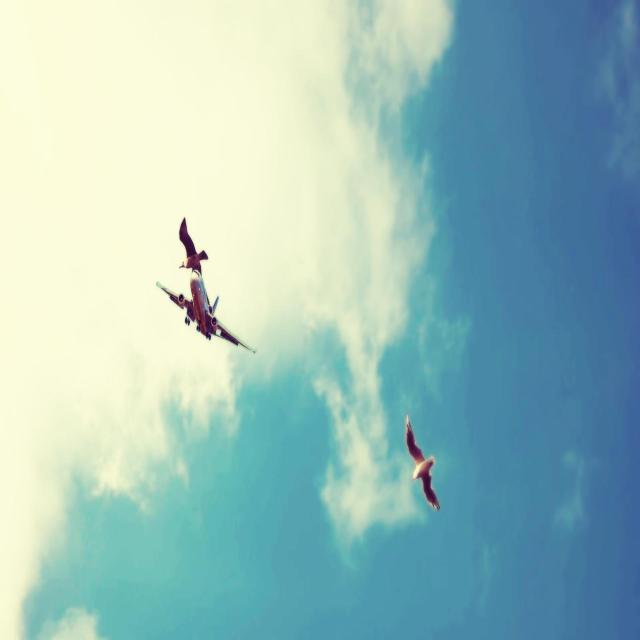airplane: (156, 269, 256, 353)
